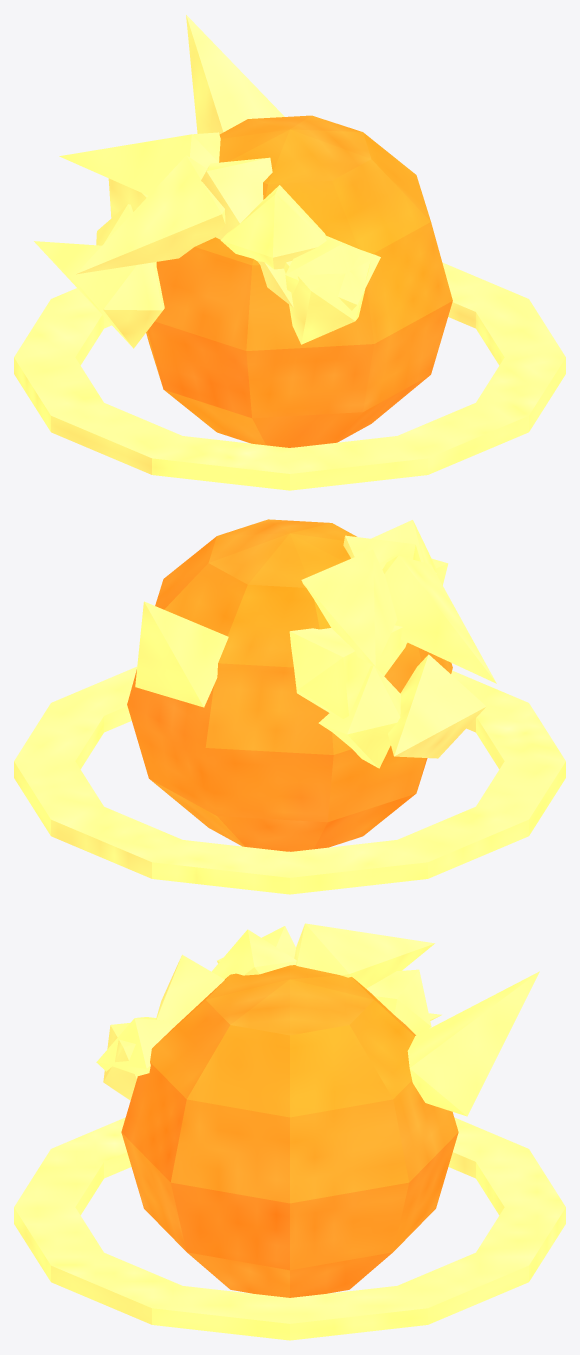
Rendered from fx_blast.glb.
3 renders of one model, top to bottom at view 1: azimuth 30°, elevation 25°; view 2: azimuth 150°, elevation 25°; view 3: azimuth 270°, elevation 25°, orthographic.
Parts seen in each view (by area): view 1: fx_blast; view 2: fx_blast; view 3: fx_blast.
Part boxes in pixels (x1=…): fx_blast: x1=14, y1=15, x2=565, y2=490; fx_blast: x1=14, y1=519, x2=565, y2=894; fx_blast: x1=14, y1=923, x2=565, y2=1340.
Size of the model in its own units: 1.8 by 1.17 by 1.8.
1 material, 1 textured.
